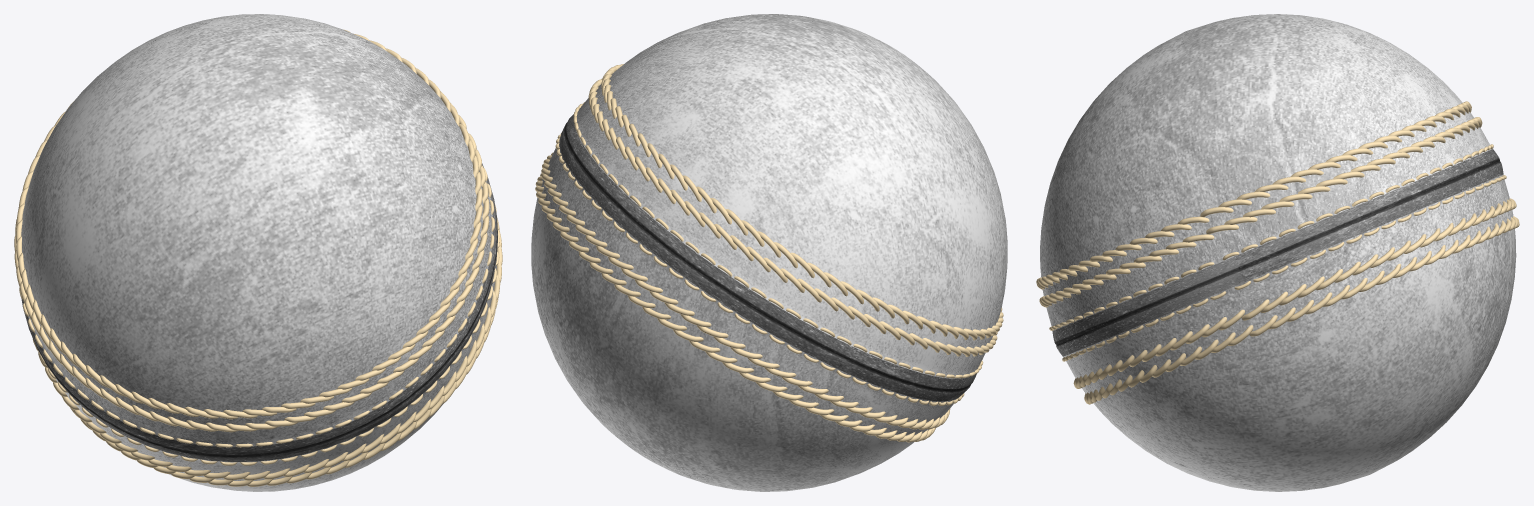
Rendered from ball.glb.
3 views of the same model, side by side, from view 1: azimuth 30°, elevation 25°; view 2: azimuth 150°, elevation 25°; view 3: azimuth 270°, elevation 25° (orthographic).
Parts seen in each view (by area): view 1: Sphere_Material.004_0, Cylinder.002_Material.002_0; view 2: Sphere_Material.004_0, Cylinder.002_Material.002_0; view 3: Sphere_Material.004_0, Cylinder.002_Material.002_0.
Part boxes in pixels (left/top/right/bottom): Sphere_Material.004_0: left=21, top=14, right=497, bottom=491; Cylinder.002_Material.002_0: left=14, top=29, right=502, bottom=486; Sphere_Material.004_0: left=531, top=14, right=1007, bottom=491; Cylinder.002_Material.002_0: left=535, top=64, right=1003, bottom=442; Sphere_Material.004_0: left=1040, top=14, right=1516, bottom=491; Cylinder.002_Material.002_0: left=1036, top=101, right=1519, bottom=404.
Size of the model in its own units: 201 by 198 by 201.
Materials: 2 (1 with a texture image).
